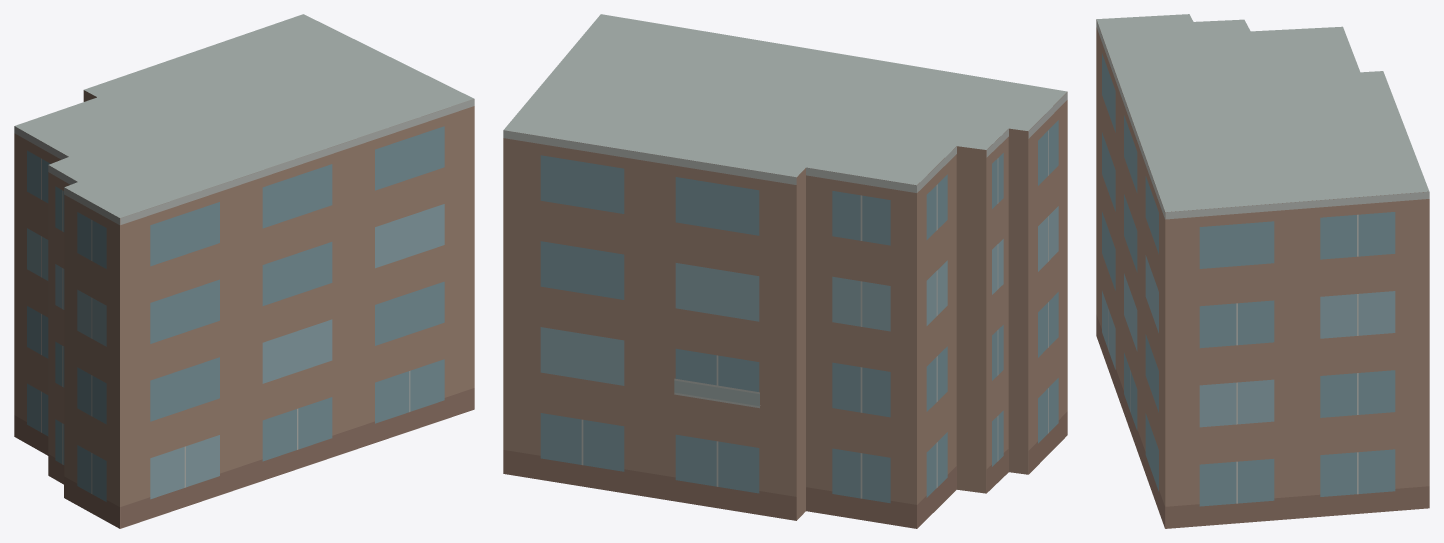
File: survey-upis-32687182.glb
3 renders of one model, left to right at view 1: azimuth 30°, elevation 25°; view 2: azimuth 150°, elevation 25°; view 3: azimuth 270°, elevation 25°, orthographic. The views are drawn at different scales.
Visible parts, largest first — view 1: survey-upis-32687182.tmp; view 2: survey-upis-32687182.tmp; view 3: survey-upis-32687182.tmp.
Part boxes in pixels (x1,y1,x2,y2): survey-upis-32687182.tmp: (14,14,474,528); survey-upis-32687182.tmp: (503,14,1067,528); survey-upis-32687182.tmp: (1096,14,1429,528).
Size of the model in its own units: 14.24 by 10.6 by 10.12.
